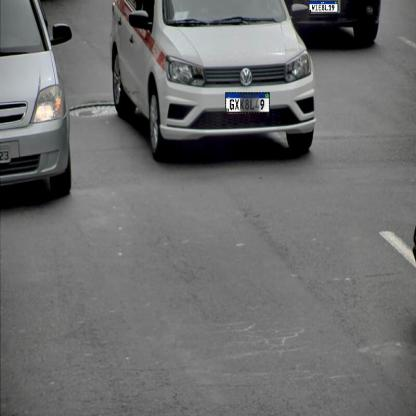PlacaM: (225, 92, 270, 113), (309, 0, 338, 12)
